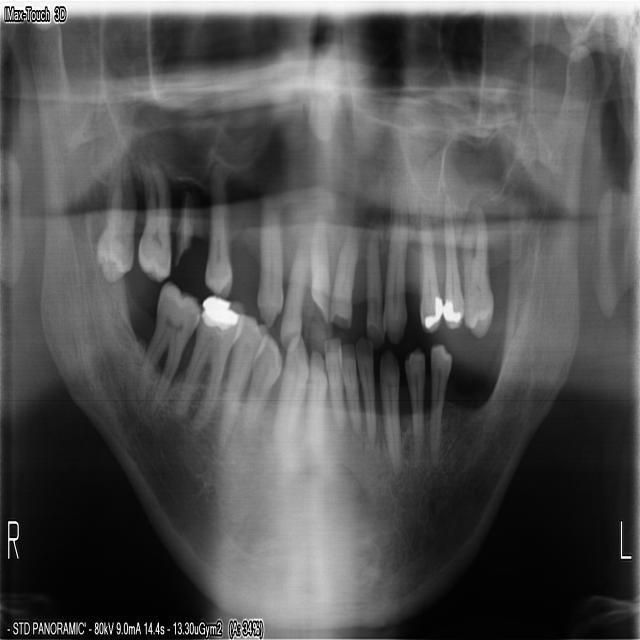LCD: (342, 337, 362, 438)
LCU: (362, 207, 385, 349)
LID: (318, 333, 345, 435), (306, 344, 328, 458)
LIU: (328, 212, 357, 329), (310, 194, 331, 324)
LMD: (428, 341, 451, 465), (407, 349, 425, 462)
LMU: (463, 196, 494, 338), (438, 176, 465, 335)
LPMD: (381, 355, 404, 476), (357, 337, 378, 443)
LPMU: (382, 204, 409, 344), (419, 201, 442, 333)
RCD: (217, 310, 263, 443)
RID: (269, 338, 307, 447), (242, 330, 281, 421)
RIU: (280, 204, 309, 343), (256, 199, 286, 318)
RMD: (175, 294, 243, 430), (137, 282, 199, 405)
RMU: (95, 155, 138, 287), (138, 157, 174, 279)
RPMU: (204, 177, 233, 293)
